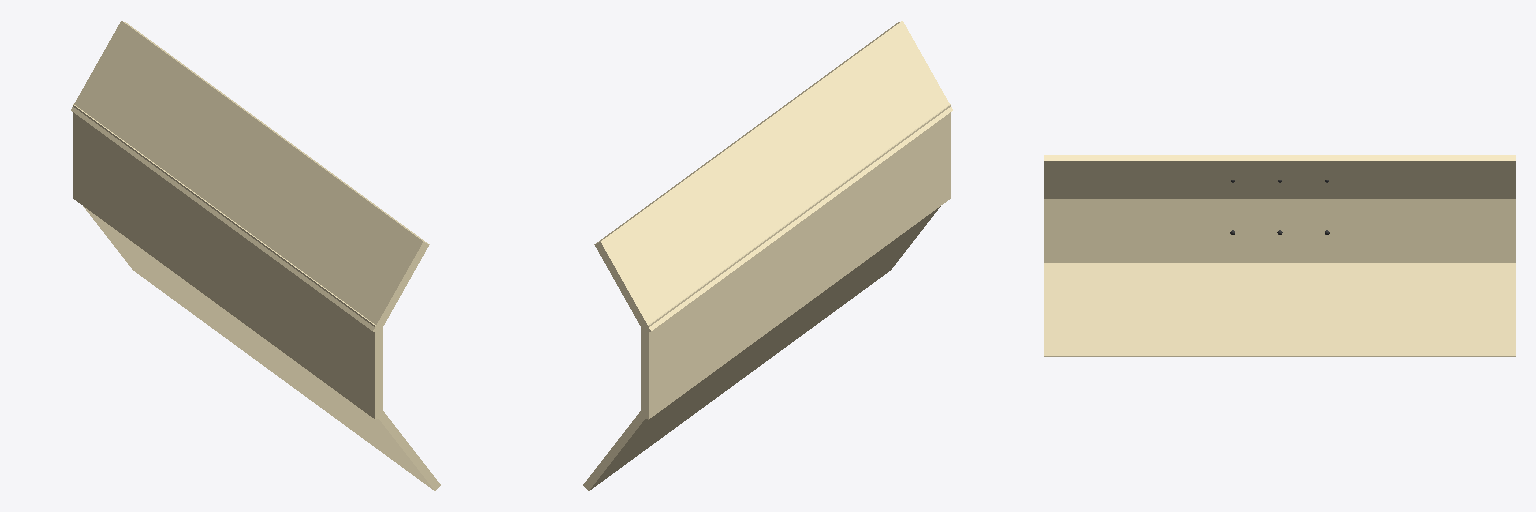
robot.urdf — bolt_frame:
<?xml version="1.0"?>

<robot name="bolt_frame">

  <link name="root">
    <!-- bottom bolt frame -->
    <visual>
      <origin xyz="-0.58 0 0.45" rpy="0 -0.6 0"/>
      <geometry>
        <box size="0.05 3.5 0.7" />
      </geometry>
      <material name='steel'>
        <color rgba="1.0 0.95 0.8 1" />
      </material>
    </visual>

    <!-- <collision>
      <origin xyz="-0.58 0 0.45" rpy="0 -0.6 0"/>
      <geometry>
        <box size="0.05 3.5 0.7" />
      </geometry>
    </collision> -->

    <!-- Middle bolt frame -->
    <visual>
      <origin xyz="-0.78 0 1.0" rpy="0 0 0"/>
      <geometry>
        <box size="0.05 3.5 0.6" />
      </geometry>
      <material name='steel'>
        <color rgba="1.0 0.95 0.8 1" />
      </material>
    </visual>

    <!-- <collision>
      <origin xyz="-0.78 0 1.0" rpy="0 0 0"/>
      <geometry>
        <box size="0.05 3.5 0.6" />
      </geometry>
    </collision> -->

    <!-- Top bolt frame -->
    <visual>
      <origin xyz="-0.63 0 1.5" rpy="0 0.6 0"/>
      <geometry>
        <box size="0.05 3.5 0.6" />
      </geometry>
      <material name='steel'>
        <color rgba="1.0 0.95 0.8 1" />
      </material>
    </visual>

    <!-- <collision>
      <origin xyz="-0.63 0 1.5" rpy="0 0.6 0"/>
      <geometry>
        <box size="0.05 3.5 0.6" />
      </geometry>
    </collision> -->

    <!-- Top bolt pattern -->
    <visual>
      <origin xyz="-0.61 -0.35 1.5" rpy="0 0.6 0"/>
      <geometry>
        <sphere radius="0.02" />
      </geometry>
      <material name='bolt_mark'>
        <color rgba="0.3 0.3 0.3 1" />
      </material>
    </visual>
    <visual>
      <origin xyz="-0.61 0 1.5" rpy="0 0.6 0"/>
      <geometry>
        <sphere radius="0.02" />
      </geometry>
      <material name='bolt_mark'>
        <color rgba="0.3 0.3 0.3 1" />
      </material>
    </visual>
    <visual>
      <origin xyz="-0.61 0.35 1.5" rpy="0 0.6 0"/>
      <geometry>
        <sphere radius="0.02" />
      </geometry>
      <material name='bolt_mark'>
        <color rgba="0.3 0.3 0.3 1" />
      </material>
    </visual>

    <!-- Middle bolt pattern -->
    <visual>
      <origin xyz="-0.76 -0.35 1.0" rpy="0 0.6 0"/>
      <geometry>
        <sphere radius="0.02" />
      </geometry>
      <material name='bolt_mark'>
        <color rgba="0.3 0.3 0.3 1" />
      </material>
    </visual>
    <visual>
      <origin xyz="-0.76 0 1.0" rpy="0 0.6 0"/>
      <geometry>
        <sphere radius="0.02" />
      </geometry>
      <material name='bolt_mark'>
        <color rgba="0.3 0.3 0.3 1" />
      </material>
    </visual>
    <visual>
      <origin xyz="-0.76 0.35 1.0" rpy="0 0.6 0"/>
      <geometry>
        <sphere radius="0.02" />
      </geometry>
      <material name='bolt_mark'>
        <color rgba="0.3 0.3 0.3 1" />
      </material>
    </visual>

    <!-- Bottom bolt pattern -->
    <!-- <visual>
      <origin xyz="-0.69 -0.35 0.5" rpy="0 0.6 0"/>
      <geometry>
        <sphere radius="0.02" />
      </geometry>
      <material name='bolt_mark'>
        <color rgba="0.3 0.3 0.3 1" />
      </material>
    </visual>
    <visual>
      <origin xyz="-0.69 0 0.5" rpy="0 0.6 0"/>
      <geometry>
        <sphere radius="0.02" />
      </geometry>
      <material name='bolt_mark'>
        <color rgba="0.3 0.3 0.3 1" />
      </material>
    </visual>
    <visual>
      <origin xyz="-0.69 0.35 0.5" rpy="0 0.6 0"/>
      <geometry>
        <sphere radius="0.02" />
      </geometry>
      <material name='bolt_mark'>
        <color rgba="0.3 0.3 0.3 1" />
      </material>
    </visual> -->

  </link>

</robot>

--- Render facts (derived) ---
The picture shows the robot from 3 angles, left to right: view 1: azimuth 30°, elevation 25°; view 2: azimuth 150°, elevation 25°; view 3: azimuth 270°, elevation 25°; orthographic projection.
Model bolt_frame with 1 links and 0 joints (none), rooted at root, posed every joint at zero.
Links seen in each view (by area): view 1: root; view 2: root; view 3: root.
Link boxes in pixels (left/top/right/bottom): root: left=71, top=21, right=440, bottom=490; root: left=583, top=21, right=952, bottom=490; root: left=1044, top=155, right=1515, bottom=356.
Size in the robot's own frame: 0.4583 by 3.5 by 1.61 metres.
Geometry: primitives only (box / cylinder / sphere), no mesh files.